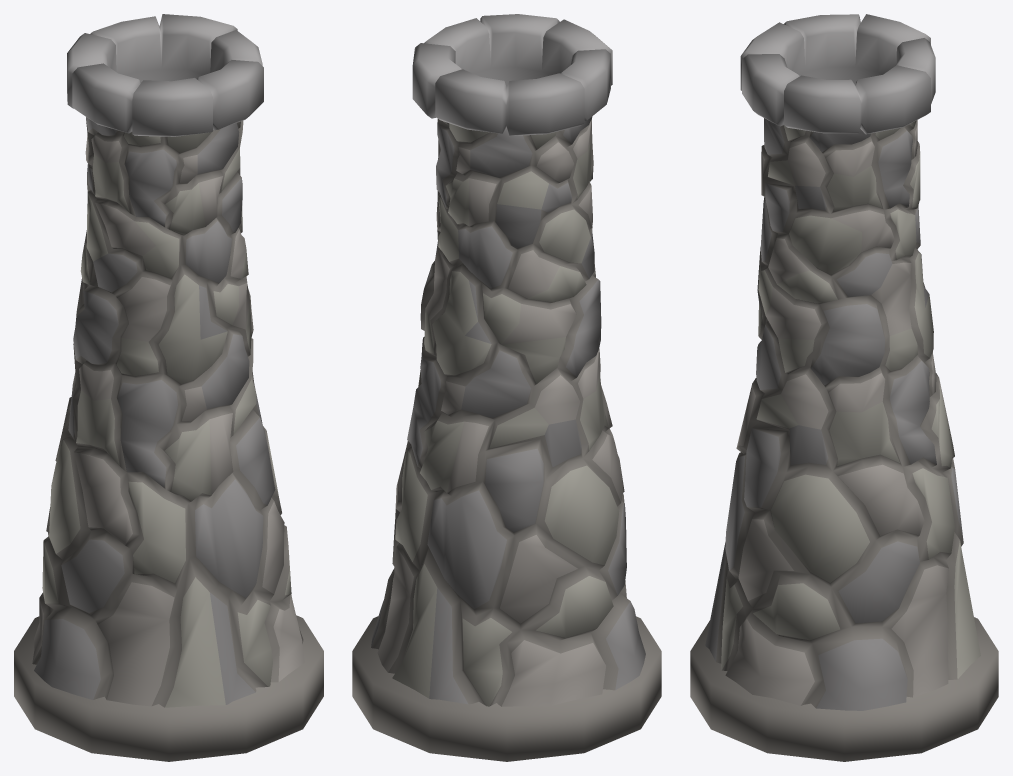
File: rpgpp_ag_chimney_01b.fbx
3 renders of one model, left to right at view 1: azimuth 30°, elevation 25°; view 2: azimuth 150°, elevation 25°; view 3: azimuth 270°, elevation 25°, orthographic.
Parts seen in each view (by area): view 1: rpgpp_ag_chimney_01b; view 2: rpgpp_ag_chimney_01b; view 3: rpgpp_ag_chimney_01b.
Part boxes in pixels (x1,y1,x2,y2): rpgpp_ag_chimney_01b: (14, 14, 323, 761); rpgpp_ag_chimney_01b: (352, 14, 661, 761); rpgpp_ag_chimney_01b: (690, 14, 998, 761).
Size of the model in its own units: 2.18 by 5.01 by 2.18.
